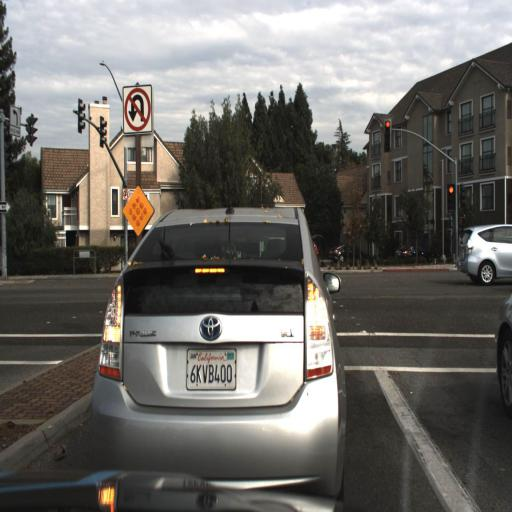car: (66, 190, 347, 504), (457, 220, 511, 287), (491, 276, 511, 422), (389, 239, 432, 270)
trafficLight-Red: (444, 177, 458, 214), (381, 114, 393, 154)
